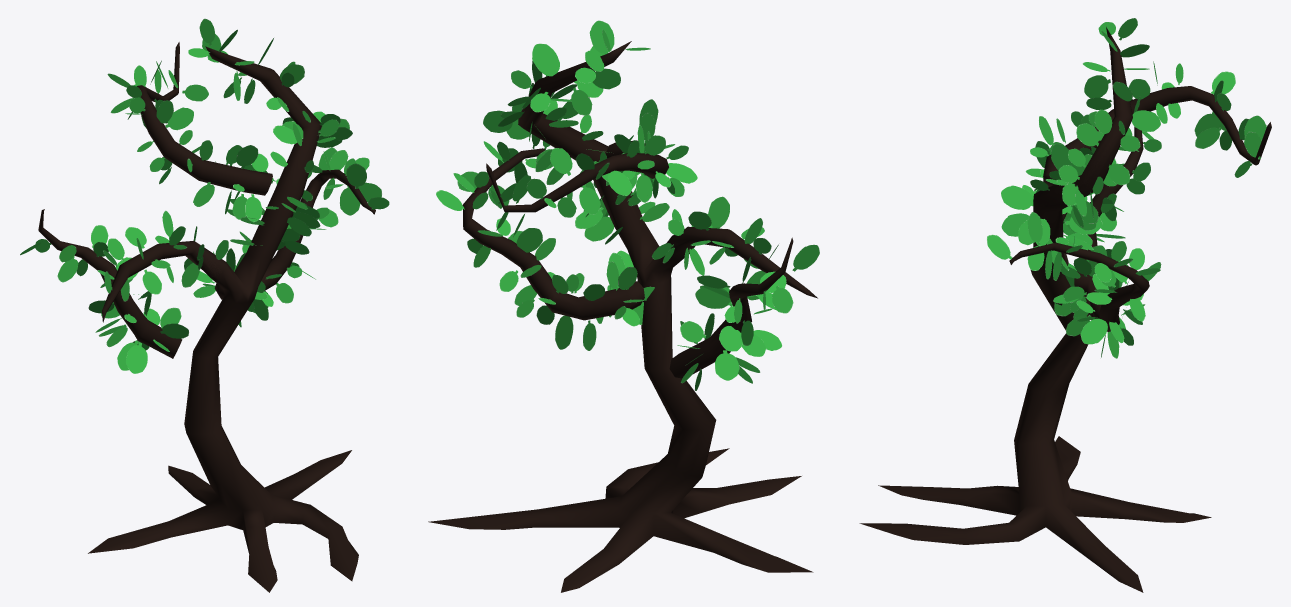
The model's file is tree1.obj.
3 views of the same model, side by side, from view 1: azimuth 30°, elevation 25°; view 2: azimuth 150°, elevation 25°; view 3: azimuth 270°, elevation 25° (orthographic). The views are drawn at different scales.
Parts seen in each view (by area): view 1: treetrunk1_GEO1 tree1_GRP, tree1_GRP MASH1_ReproMesh, tree1_GRP treetrunk1_GEO3; view 2: tree1_GRP MASH1_ReproMesh, treetrunk1_GEO1 tree1_GRP, tree1_GRP treetrunk1_GEO3; view 3: treetrunk1_GEO1 tree1_GRP, tree1_GRP MASH1_ReproMesh, tree1_GRP treetrunk1_GEO3.
Boxes of the visible parts, left/top/right/bottom form: treetrunk1_GEO1 tree1_GRP: left=88, top=46, right=358, bottom=592; tree1_GRP MASH1_ReproMesh: left=20, top=18, right=389, bottom=373; tree1_GRP treetrunk1_GEO3: left=38, top=42, right=375, bottom=358; tree1_GRP MASH1_ReproMesh: left=436, top=20, right=819, bottom=390; treetrunk1_GEO1 tree1_GRP: left=428, top=41, right=817, bottom=592; tree1_GRP treetrunk1_GEO3: left=462, top=48, right=807, bottom=378; treetrunk1_GEO1 tree1_GRP: left=859, top=27, right=1211, bottom=592; tree1_GRP MASH1_ReproMesh: left=987, top=18, right=1266, bottom=358; tree1_GRP treetrunk1_GEO3: left=1009, top=86, right=1271, bottom=331.
Bounding box in the file's own units: 689 × 937 × 701.
2 materials, 1 textured.
